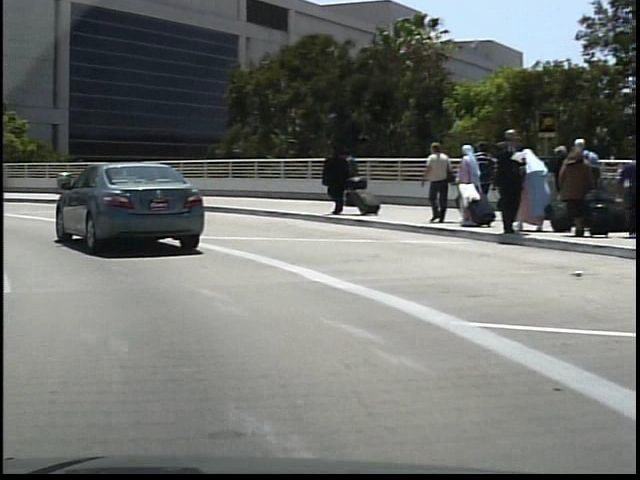person: (488, 123, 528, 237), (416, 140, 453, 223), (315, 141, 351, 216), (339, 149, 360, 208)
